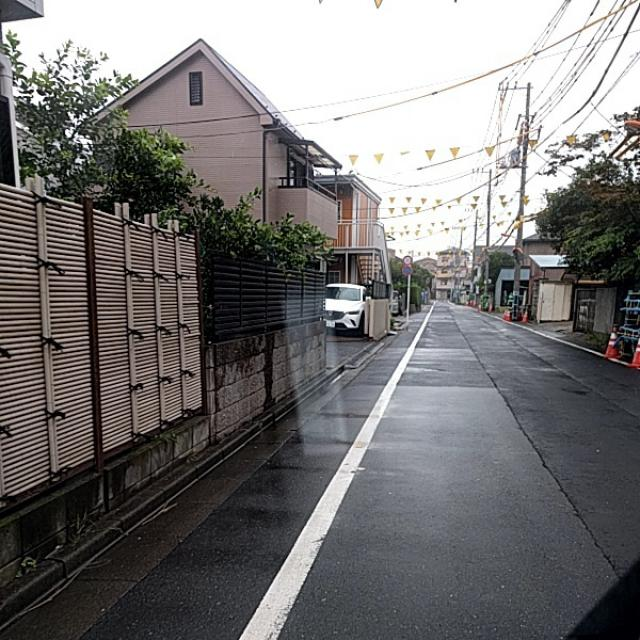pothole: (511, 419, 556, 498)
